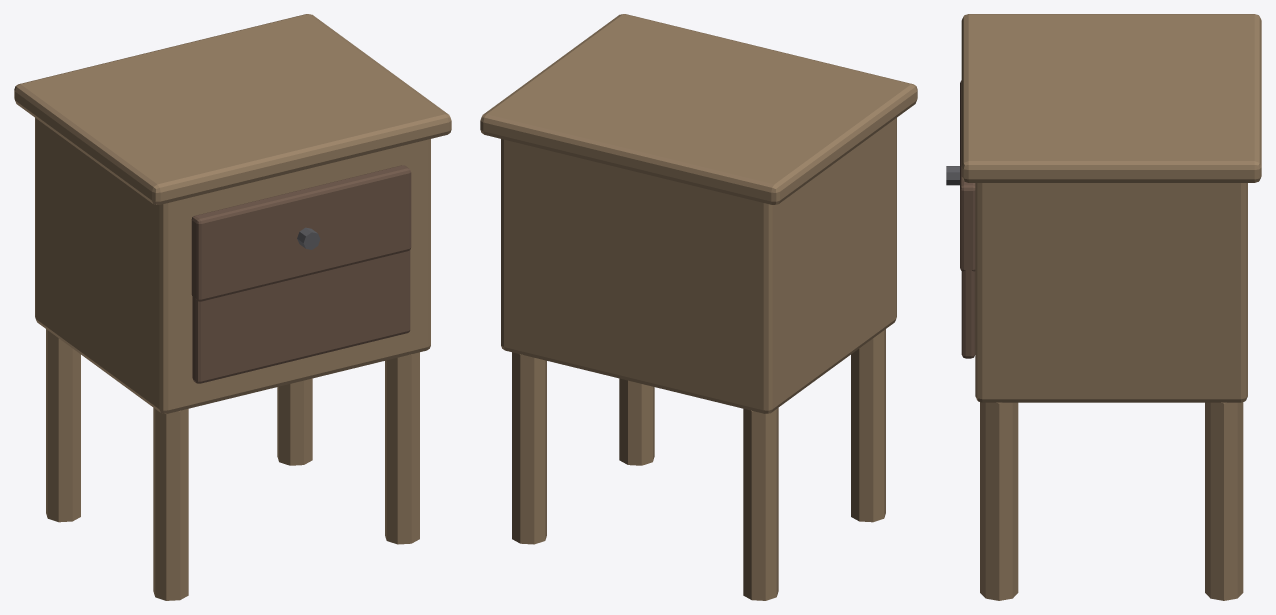
The picture shows the model from 3 angles, left to right: view 1: azimuth 30°, elevation 25°; view 2: azimuth 150°, elevation 25°; view 3: azimuth 270°, elevation 25°; orthographic projection. The views are drawn at different scales.
Visible parts, largest first — view 1: nightstand; view 2: nightstand; view 3: nightstand.
Part boxes in pixels (box(x1,y1,x2,y2)): nightstand: box(14, 14, 451, 600); nightstand: box(480, 14, 917, 600); nightstand: box(946, 14, 1261, 600).
Size of the model in its own units: 0.53 by 0.7225 by 0.4625.
